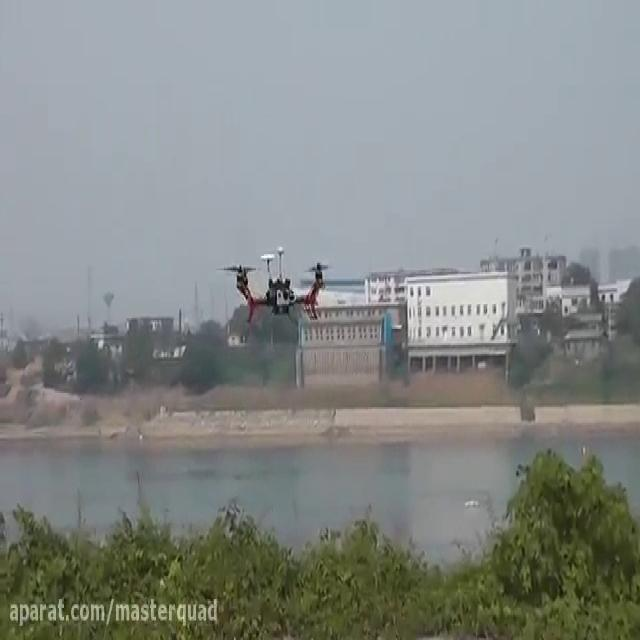drone: (209, 240, 336, 329)
